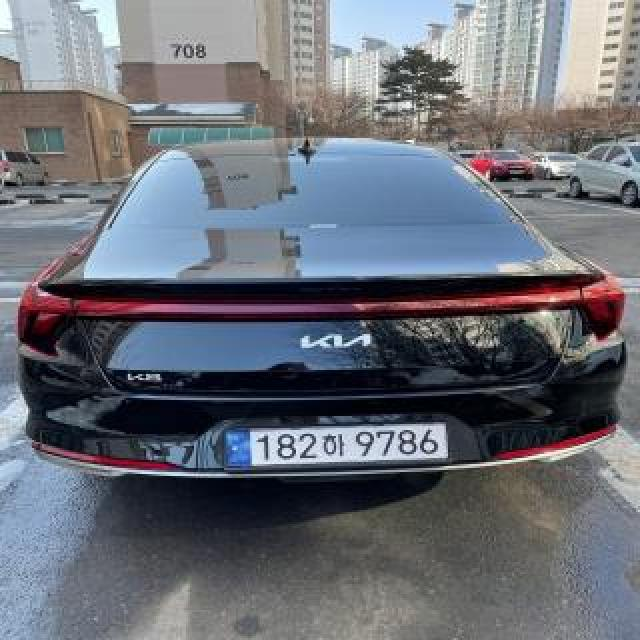car: (0, 127, 640, 488)
illegal_plate: (222, 416, 450, 478)
